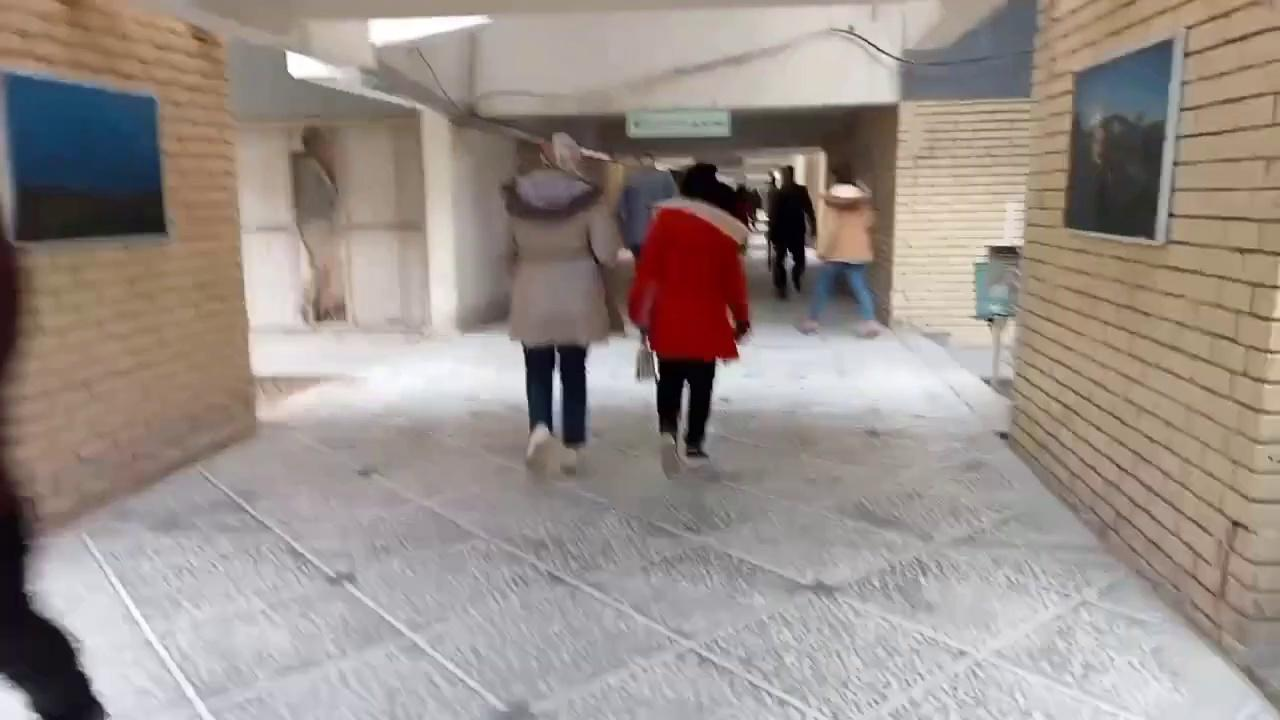person: (500, 131, 624, 476), (626, 162, 751, 457), (797, 161, 885, 337), (1070, 113, 1155, 235), (766, 164, 816, 299)
